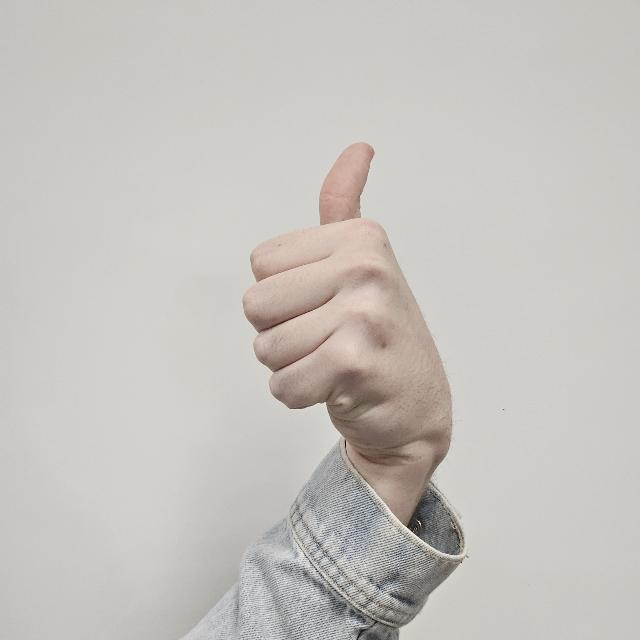Start: (246, 139, 396, 425)
